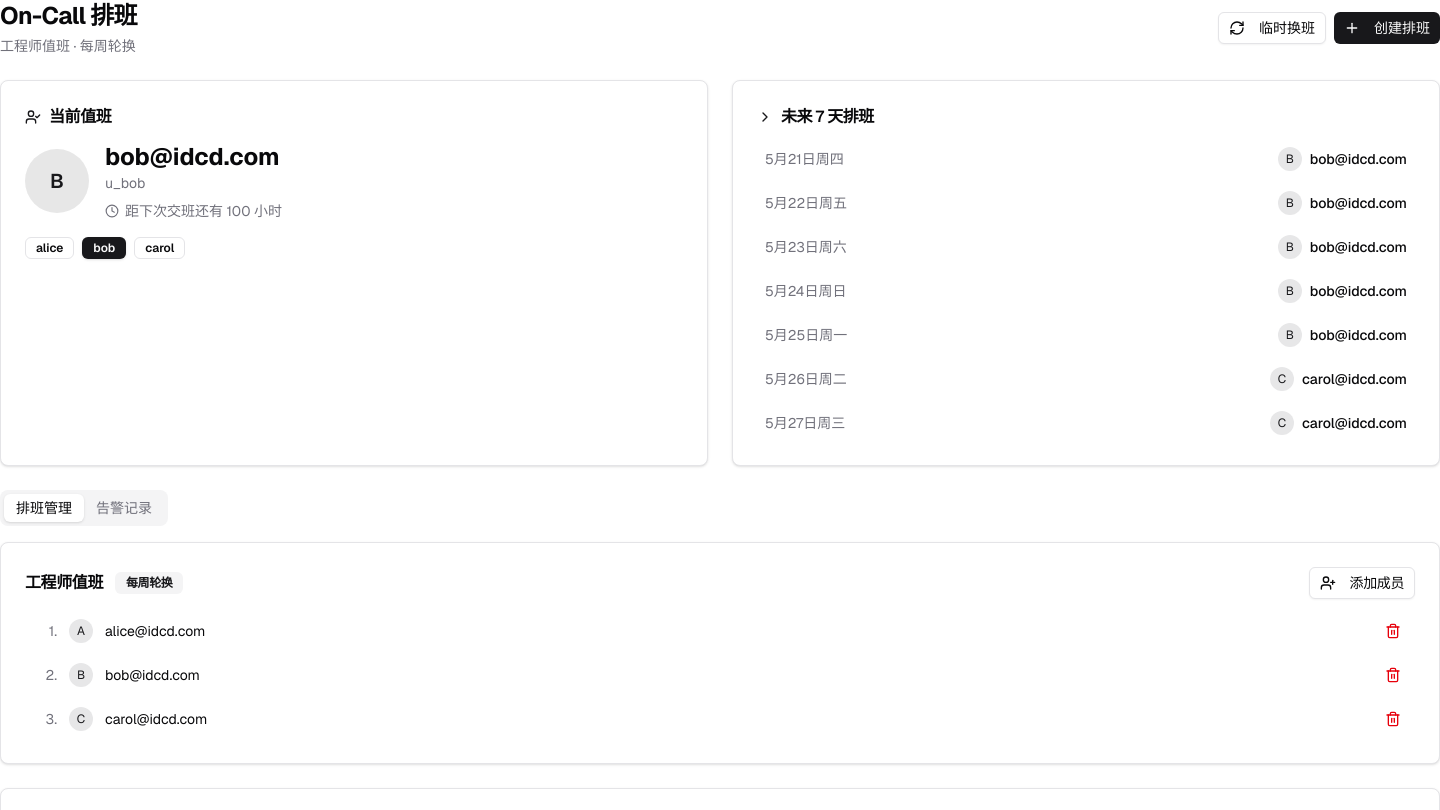
it: OncallPage › AddParticipantDialog 存在并可打开
The image size is (1440, 810).
# Click the trigger button
Step 1. Click the button with test id "add-participant-button" → click(1362, 583), box [1309,567,1415,599]
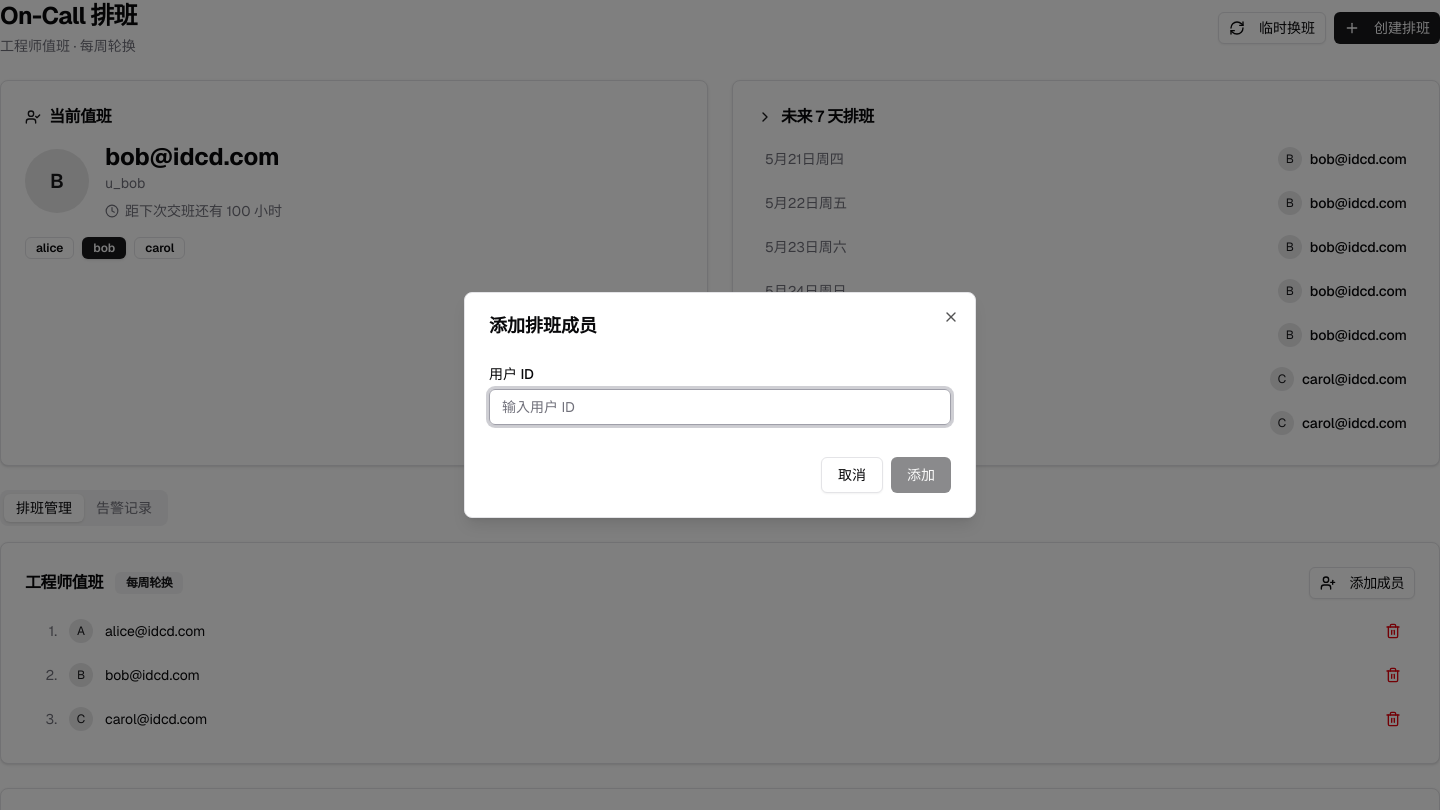
expect the dialog with test id "add-participant-dialog" is shown: met, box [464,292,976,518]
